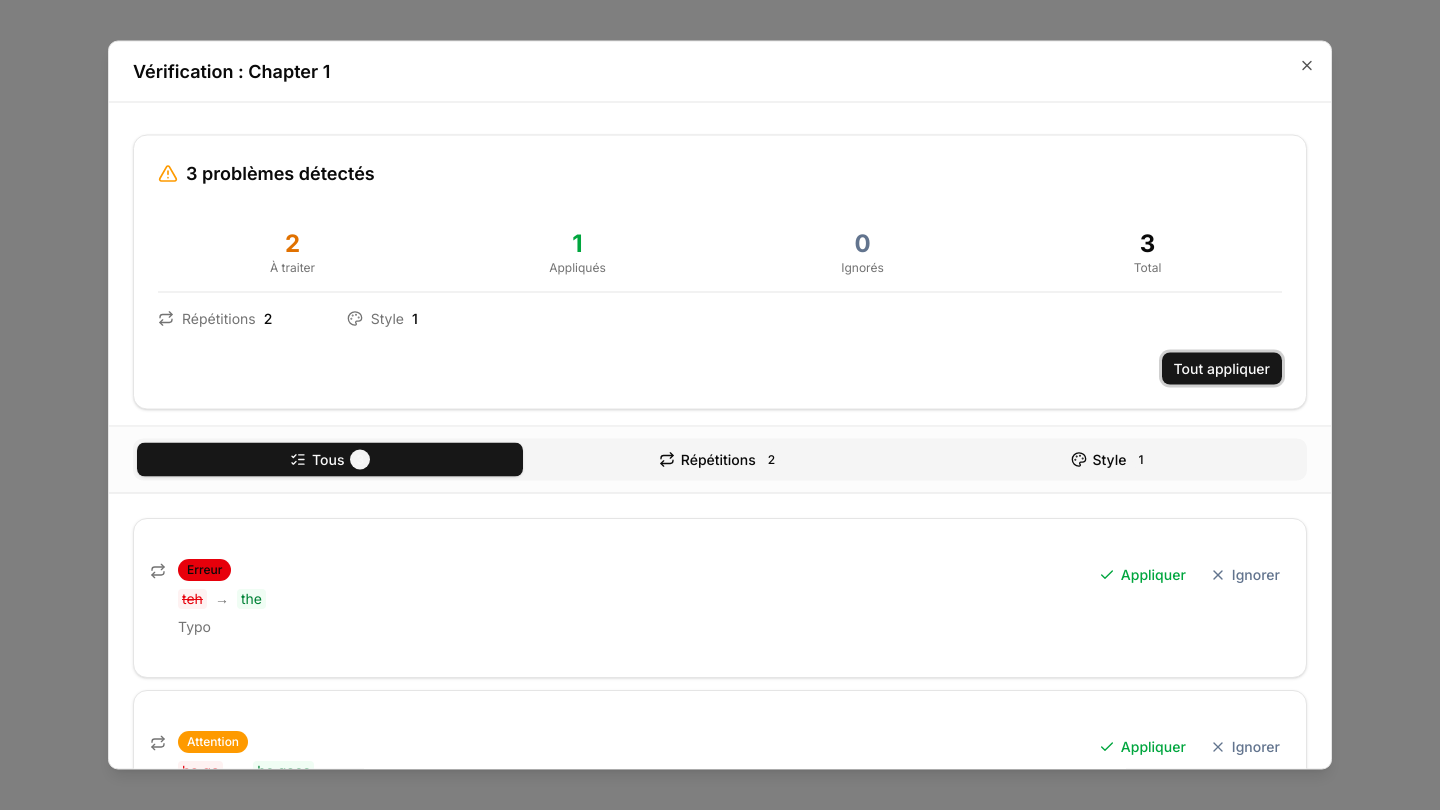
Test case: ChapterAnalysisPanel › filters issues when category tab is clicked
Click the tab "Style 1" at [1110, 460], box [917,442,1303,476]
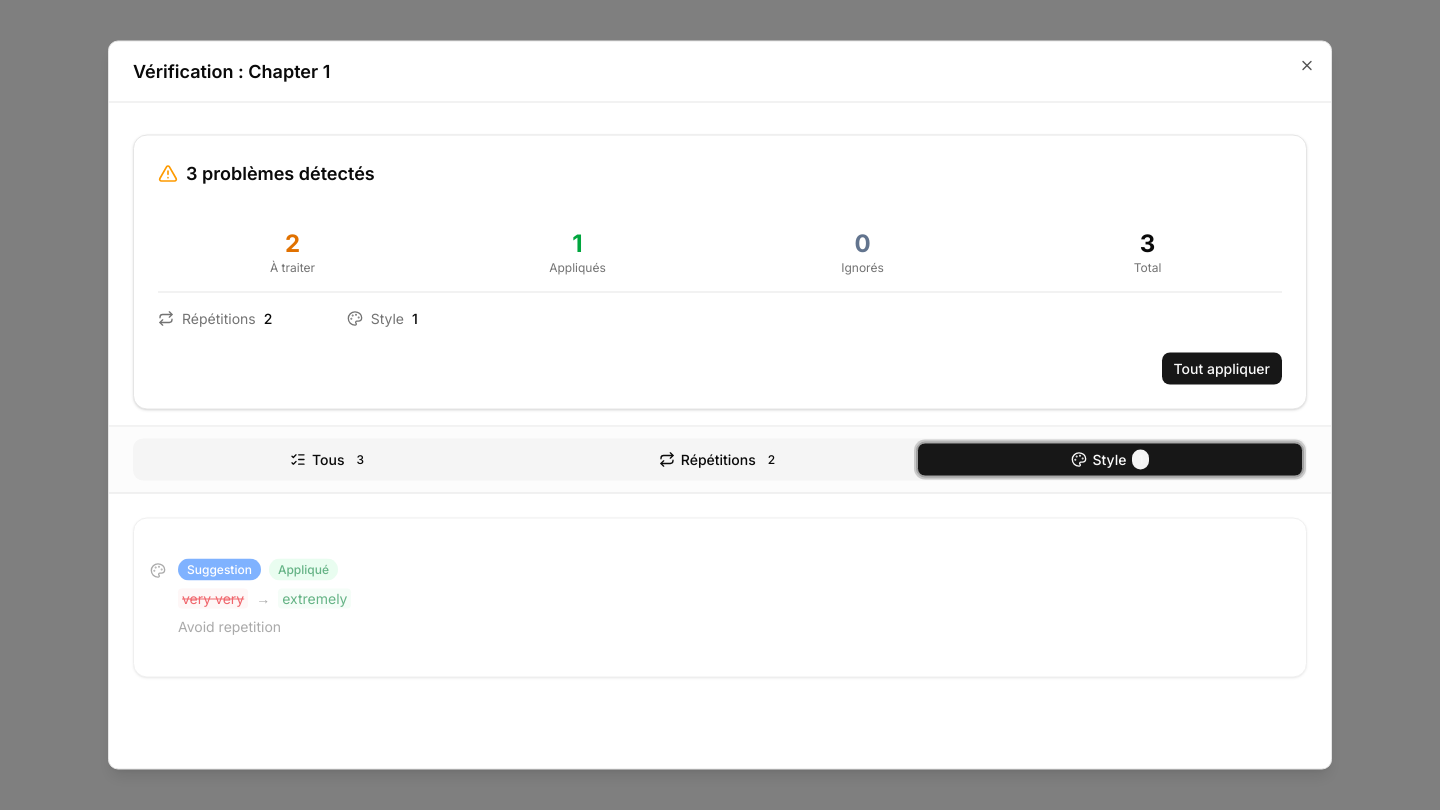
Expected: the text "very very" is shown, [178,588,248,608]
Expected: the text "he go" is gone
